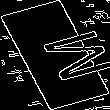M_W: (11, 25, 99, 85)
